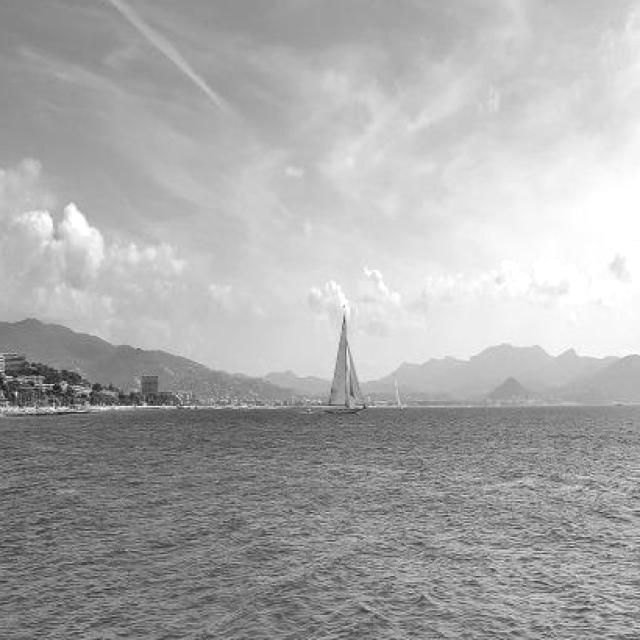ship: (326, 303, 368, 413)
